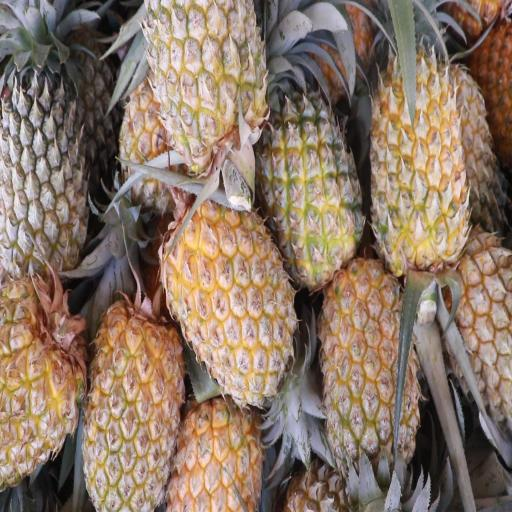------------------------------: (256, 72, 368, 310), (143, 0, 272, 201)
Pineapple - v8 v1: (160, 175, 297, 421), (366, 0, 472, 293), (316, 261, 420, 512), (83, 265, 188, 512), (0, 270, 90, 494), (435, 218, 512, 450), (162, 369, 266, 512)
